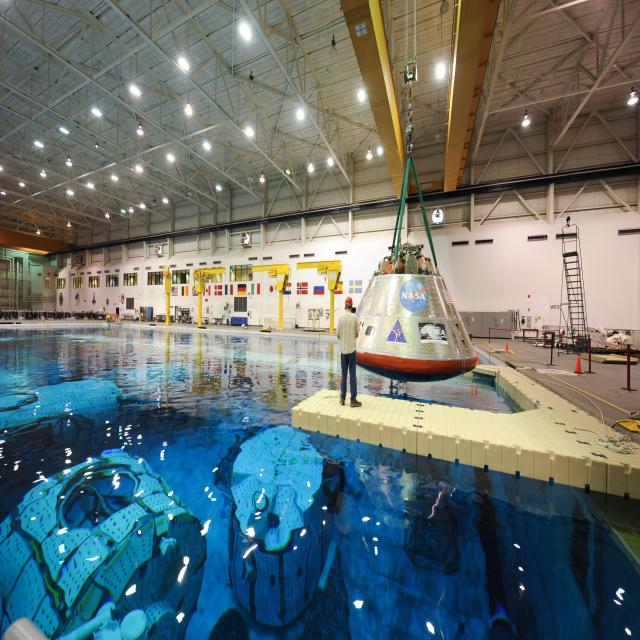Orion_capsule_mockup_ WEST _located_on_far_end_of_pool: (354, 242, 478, 383)
